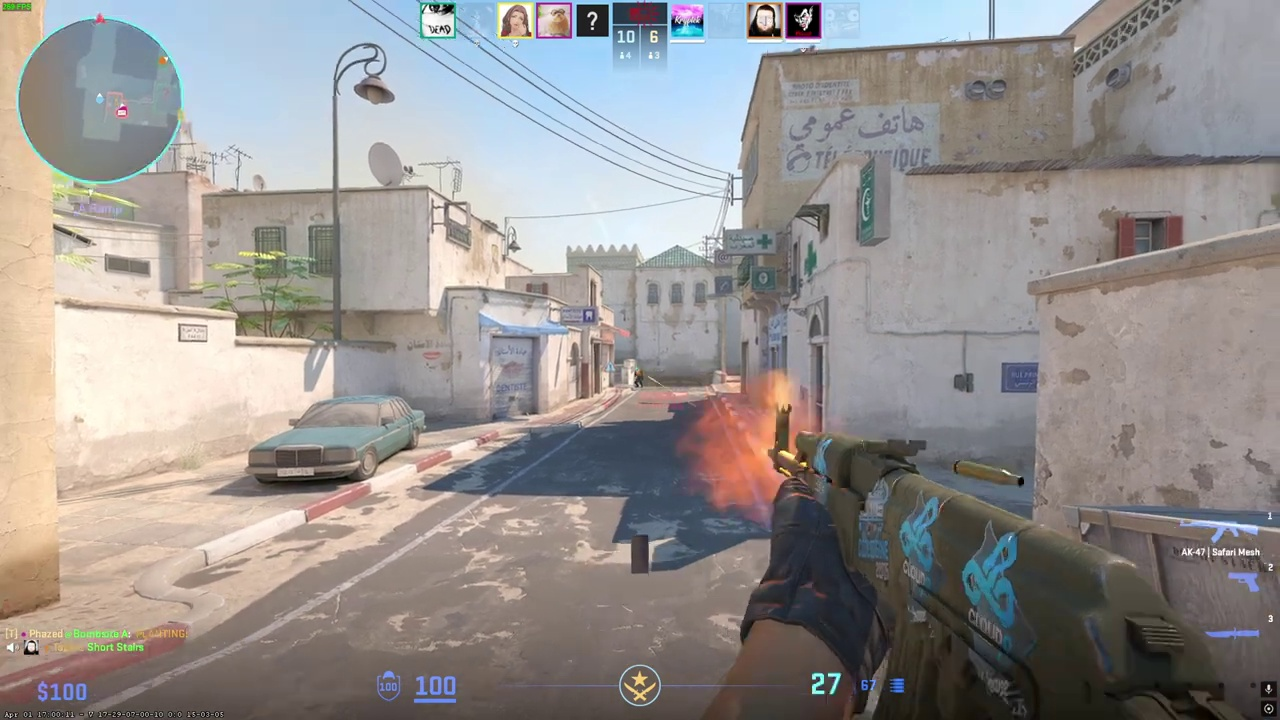CT: (635, 367, 644, 388)
